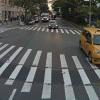Crosswalk: (7, 37, 93, 100)
